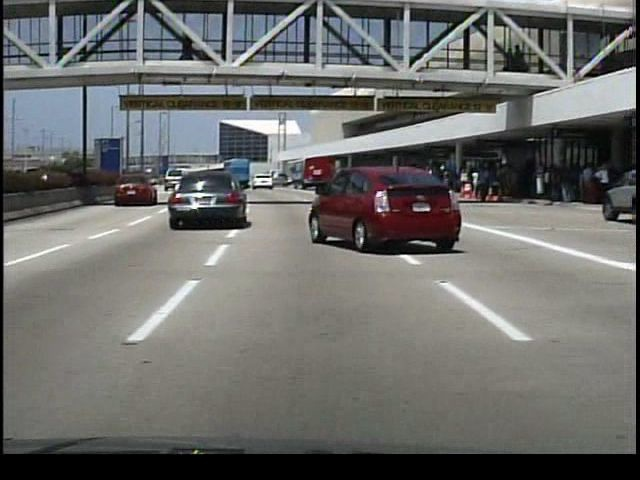person: (477, 162, 493, 204), (180, 32, 196, 63)
